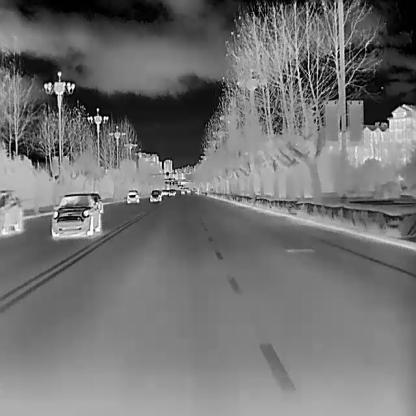car: (51, 193, 100, 236), (0, 187, 23, 233), (126, 189, 139, 203), (150, 189, 161, 201), (169, 189, 175, 195), (180, 190, 185, 194)
